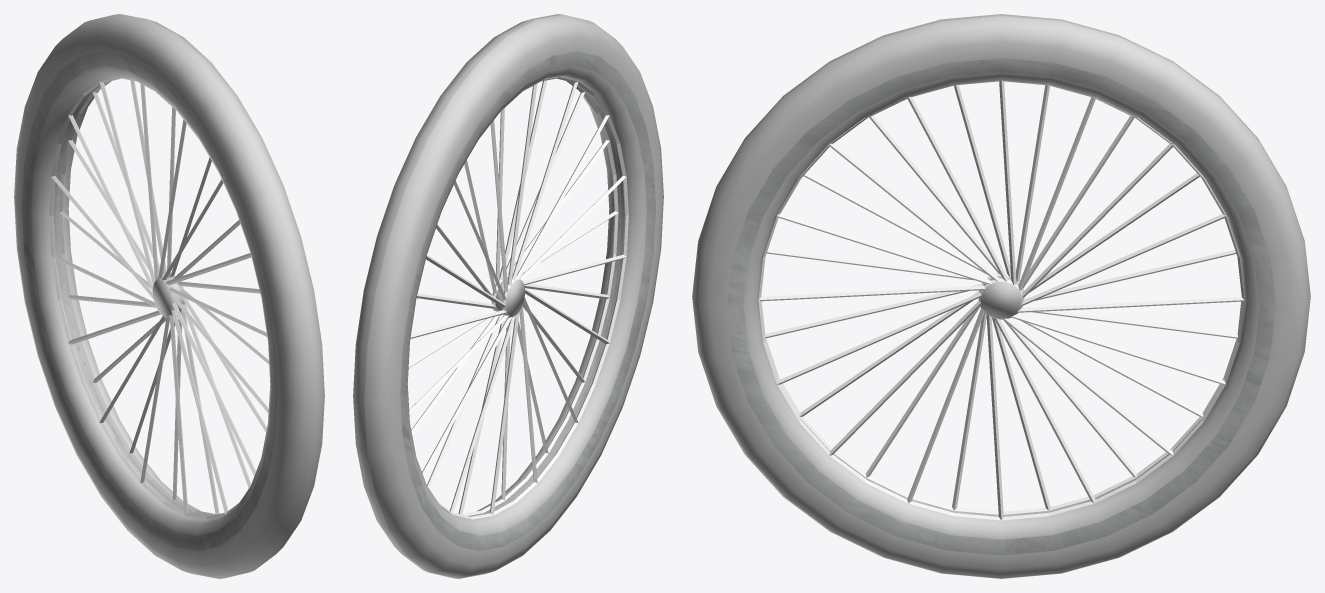
The model's file is Roda padrao.glb.
3 views of the same model, side by side, from view 1: azimuth 30°, elevation 25°; view 2: azimuth 150°, elevation 25°; view 3: azimuth 270°, elevation 25° (orthographic). The views are drawn at different scales.
Parts seen in each view (by area): view 1: Roda; view 2: Roda; view 3: Roda.
Part boxes in pixels (box(x1,y1,x2,y2)): Roda: box(14, 14, 324, 578); Roda: box(353, 14, 663, 578); Roda: box(692, 14, 1310, 578).
Size of the model in its own units: 0.0611 by 0.7723 by 0.7723.
3 materials, 1 textured.
